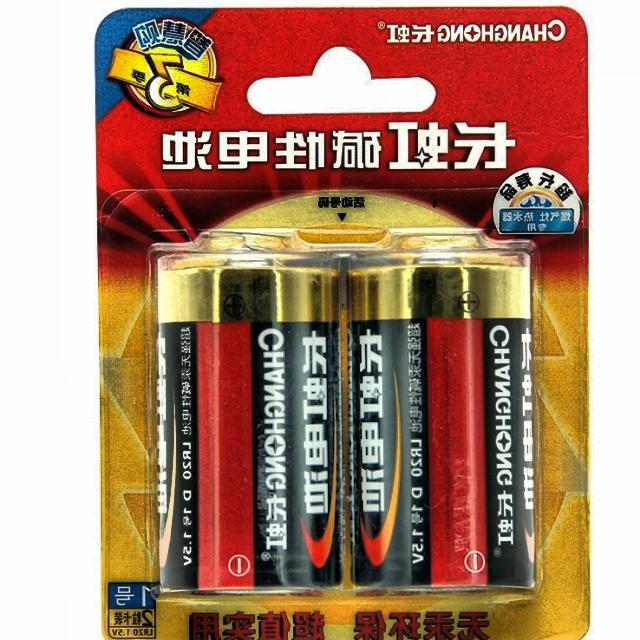Non-Valuable Waste - Batteries: (158, 234, 342, 589), (349, 263, 534, 587)
